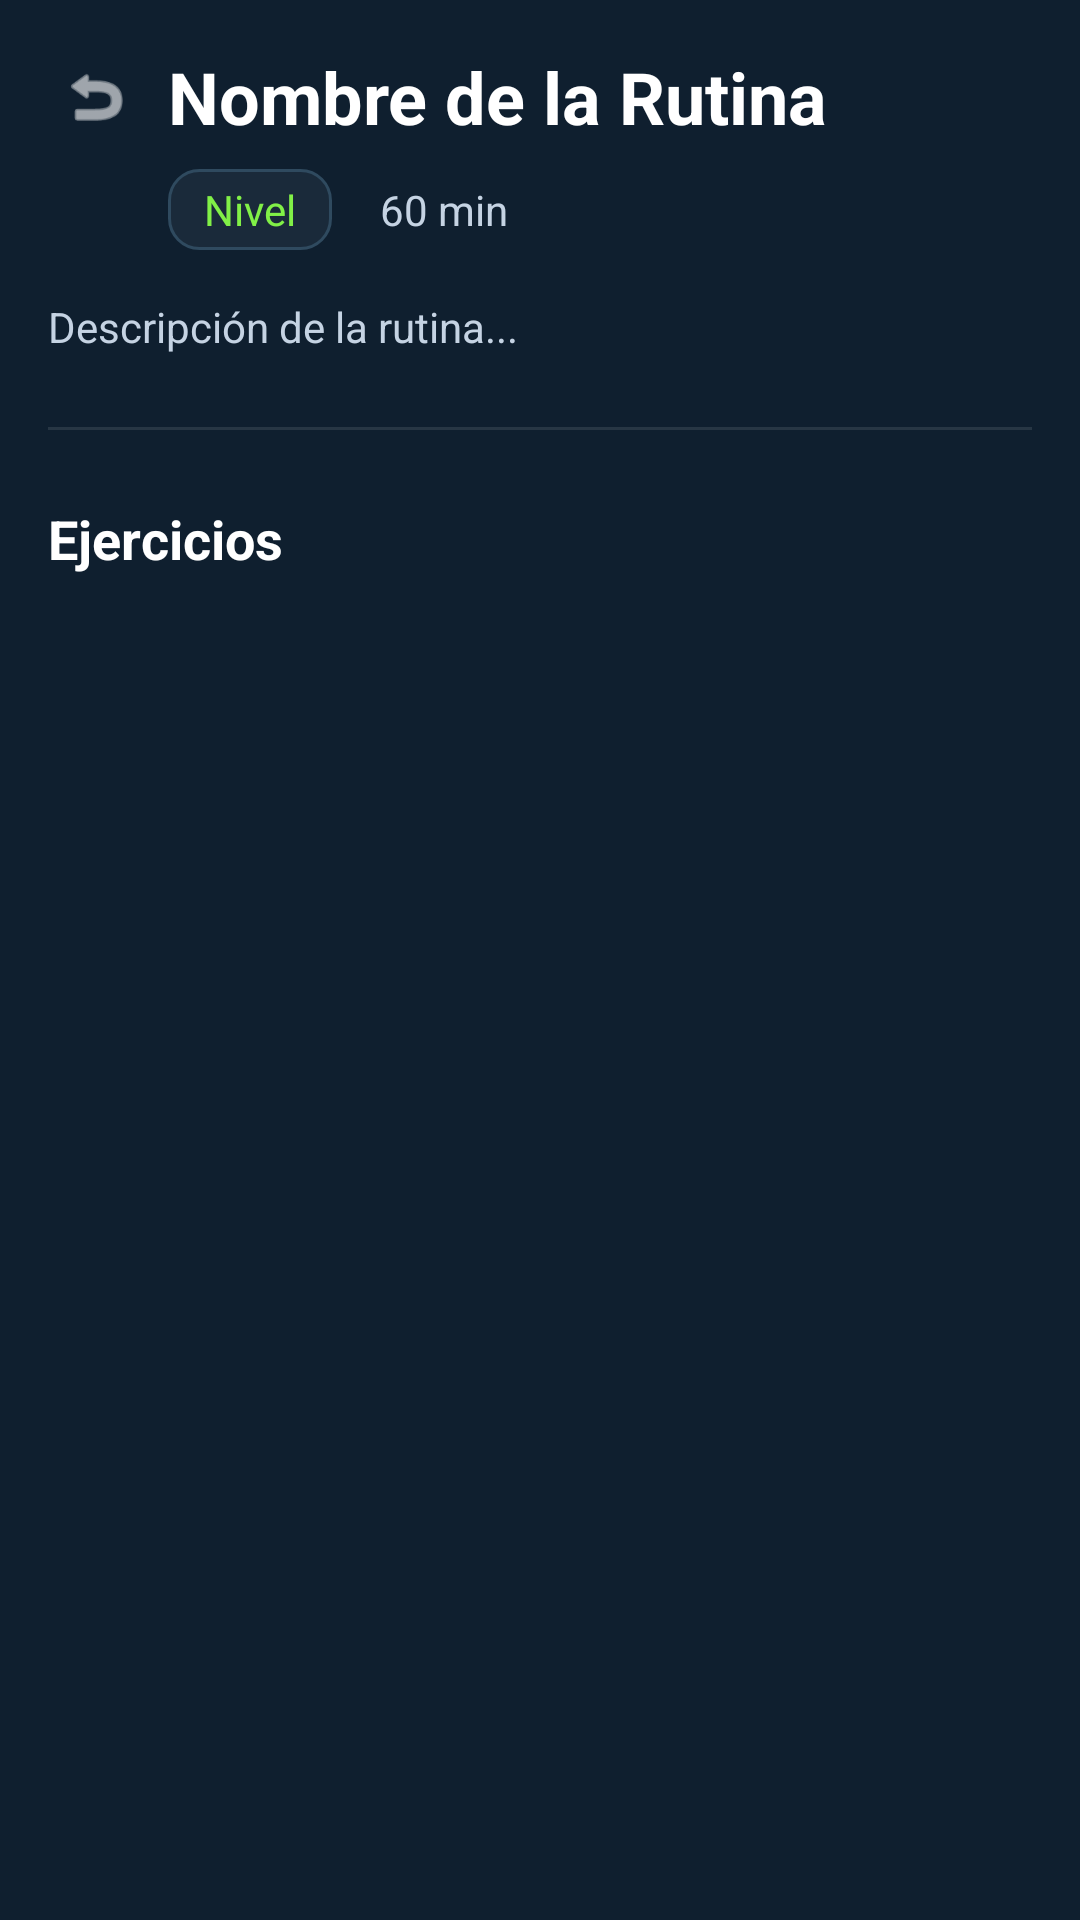

Named icons in this screenshot (1080 x 1920) and their centers, point (x, y):
revert: point (97, 97)
